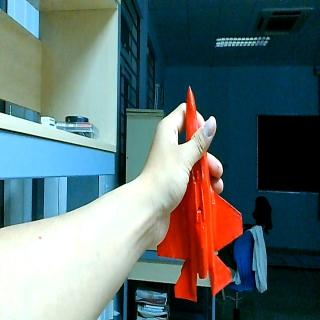Jet: (174, 86, 243, 304)
